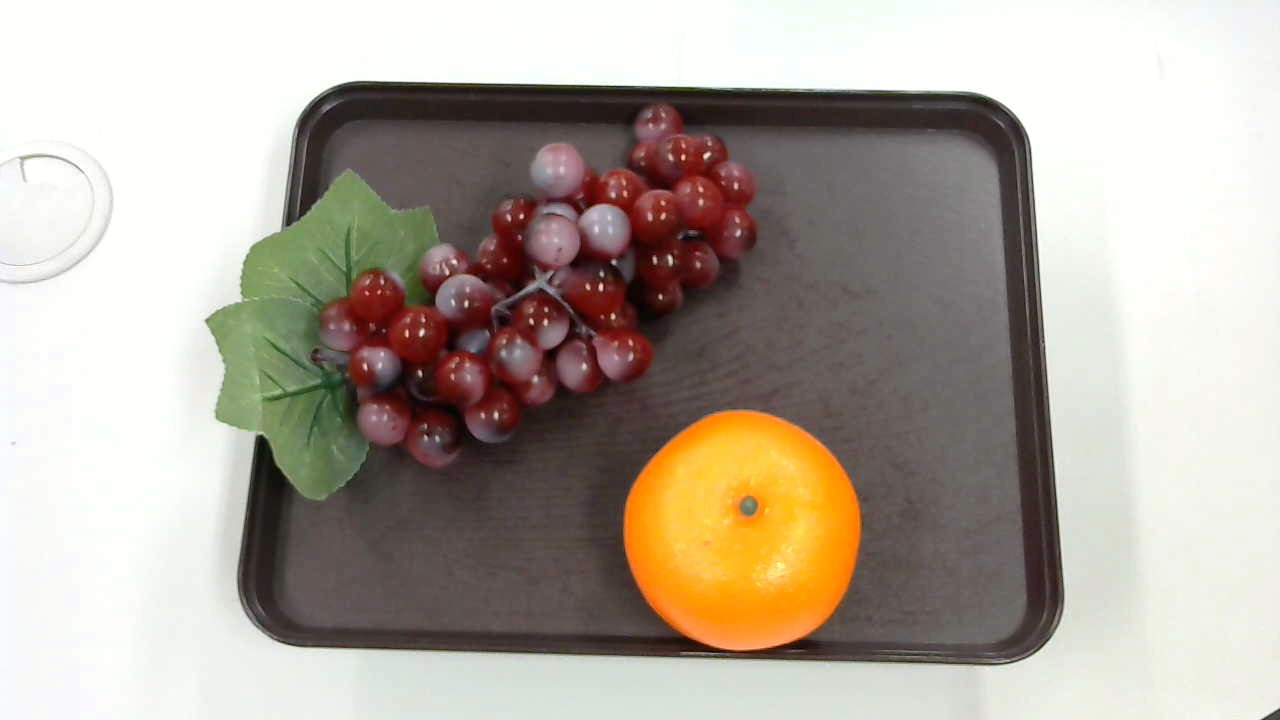grape: (201, 105, 766, 496)
orange: (620, 408, 862, 651)
